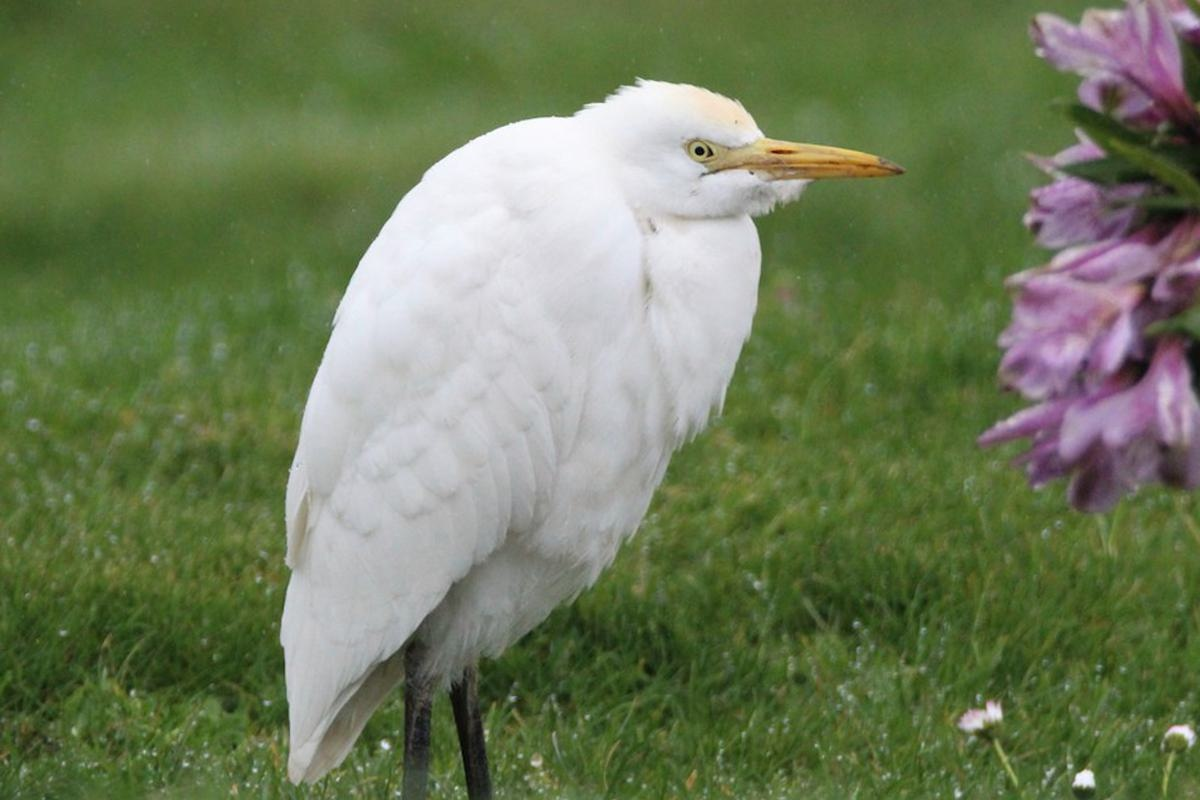egret: (216, 57, 906, 800)
